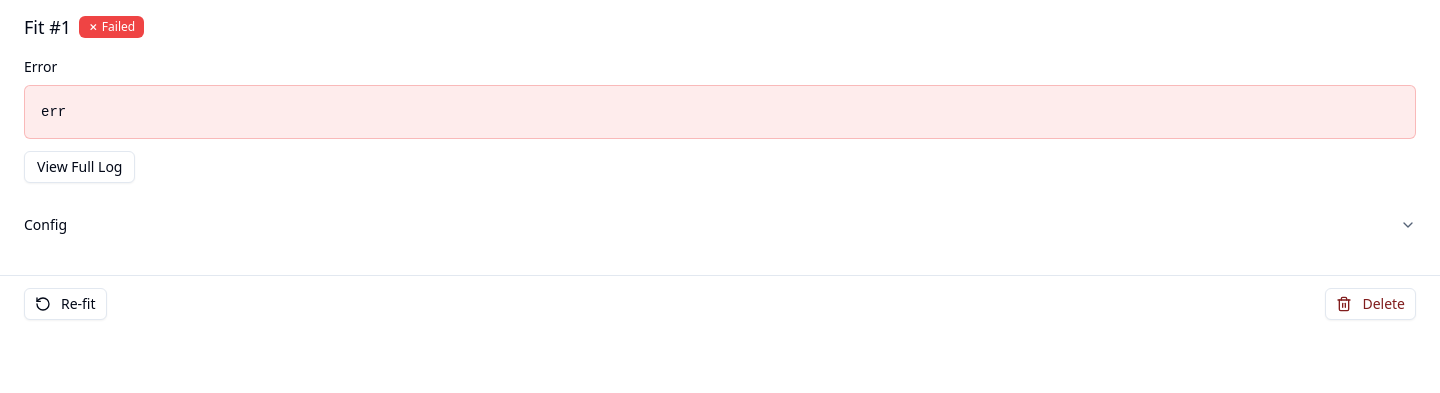
it: JobDetailPanel - ConfigTreeView rendering › shows empty object representation in config
Click the button "Config".
click(46, 224)  # box x1=24 y1=199 x2=1416 y2=251
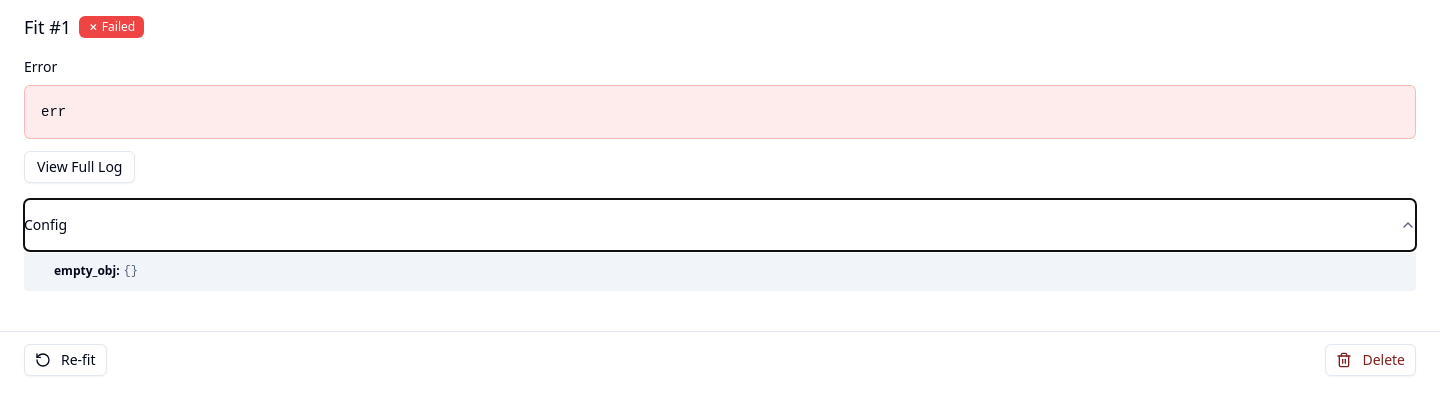
Expected: the text "{}" is shown, x1=124 y1=263 x2=138 y2=279
